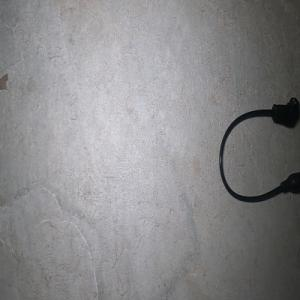Wire: (219, 96, 300, 202)
